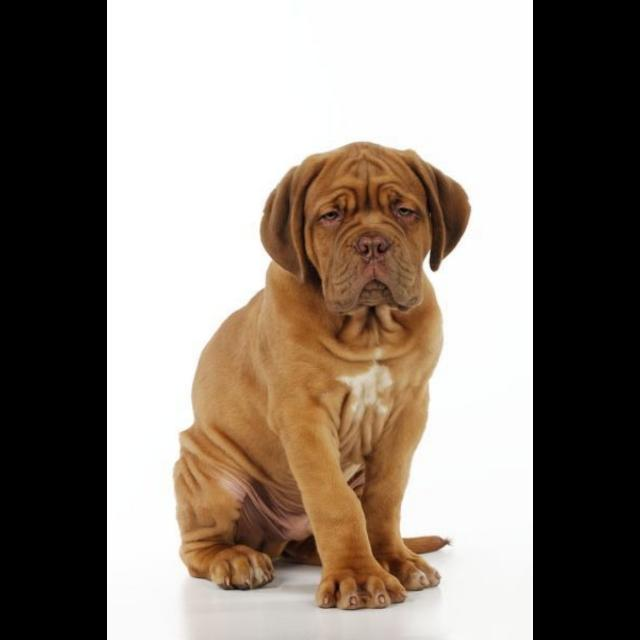dogue_de_bordeaux: (174, 141, 473, 612)
